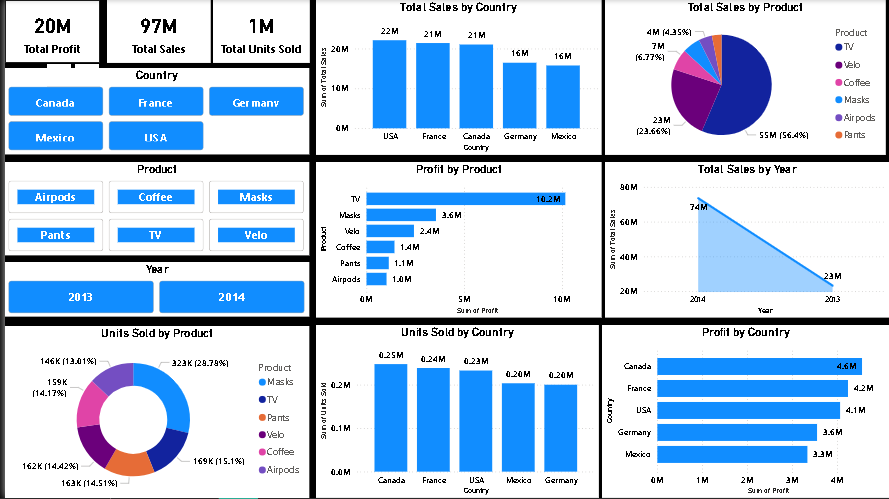

This screenshot's page, from the dashboard's own definition file:
{"tool":"powerbi","page":{"name":"Sales Project","canvas":[1280,720],"ordinal":0},"visuals":[{"type":"card","fields":{"Values":["Sum(Sales Data.Profit)"]},"box":[0,0,136.8,91.2],"z":0},{"type":"advancedSlicerVisual","fields":{"Values":["Sales Data.Country"]},"box":[0,98.5,439.7,125],"z":1000},{"type":"advancedSlicerVisual","fields":{"Values":["Sales Data.Year"]},"box":[0,379.4,439.7,79.4],"z":2000},{"type":"card","fields":{"Values":["Sum(Sales Data.Total Sales)"]},"box":[147.1,0,150,91.2],"z":3000},{"type":"advancedSlicerVisual","fields":{"Values":["Sales Data.Product"]},"box":[0,233.8,439.7,135.3],"z":4000},{"type":"clusteredColumnChart","title":"Total Sales by Country","fields":{"Y":["Sum(Sales Data.Total Sales)"],"Category":["Sales Data.Country"]},"box":[450,0,413.2,223.5],"z":5000},{"type":"barChart","title":"Profit by Product","fields":{"Category":["Sales Data.Product"],"Y":["Sum(Sales Data.Profit)"]},"box":[450,233.8,413.2,225],"z":6000},{"type":"pieChart","title":"Total Sales by Product","fields":{"Category":["Sales Data.Product"],"Y":["Sum(Sales Data.Total Sales)"]},"box":[867.6,0,405.9,223.5],"z":7000},{"type":"areaChart","title":"Total Sales by Year","fields":{"Category":["Sales Data.Year"],"Y":["Sum(Sales Data.Total Sales)"]},"box":[867.6,233.8,411.8,225],"z":8000},{"type":"card","fields":{"Values":["Sum(Sales Data.Units Sold)"]},"box":[300,0,139.7,91.2],"z":9000},{"type":"barChart","title":"Profit by Country","fields":{"Y":["Sum(Sales Data.Profit)"],"Category":["Sales Data.Country"]},"box":[863.2,470.6,416.2,250],"z":10000},{"type":"columnChart","title":"Units Sold by Country","fields":{"Category":["Sales Data.Country"],"Y":["Sum(Sales Data.Units Sold)"]},"box":[450,470.6,408.8,250],"z":11000},{"type":"donutChart","title":"Units Sold by Product","fields":{"Y":["Sum(Sales Data.Units Sold)"],"Category":["Sales Data.Product"]},"box":[0,471,440,249],"z":12000}]}

Visuals, with their boxes in screenshot pixels (x1, y1, x2, y2), scaled from the page's 1280x720 canvas onto the 889x499 screenshot:
card - Sum(Sales Data.Profit): l=0, t=0, r=95, b=63
advancedSlicerVisual - Sales Data.Country: l=0, t=68, r=305, b=155
advancedSlicerVisual - Sales Data.Year: l=0, t=263, r=305, b=318
card - Sum(Sales Data.Total Sales): l=102, t=0, r=206, b=63
advancedSlicerVisual - Sales Data.Product: l=0, t=162, r=305, b=256
"Total Sales by Country" clusteredColumnChart: l=313, t=0, r=600, b=155
"Profit by Product" barChart: l=313, t=162, r=600, b=318
"Total Sales by Product" pieChart: l=603, t=0, r=884, b=155
"Total Sales by Year" areaChart: l=603, t=162, r=888, b=318
card - Sum(Sales Data.Units Sold): l=208, t=0, r=305, b=63
"Profit by Country" barChart: l=600, t=326, r=888, b=498
"Units Sold by Country" columnChart: l=313, t=326, r=596, b=498
"Units Sold by Product" donutChart: l=0, t=326, r=306, b=498
